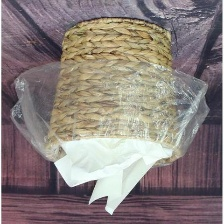tissue: (47, 130, 179, 220)
